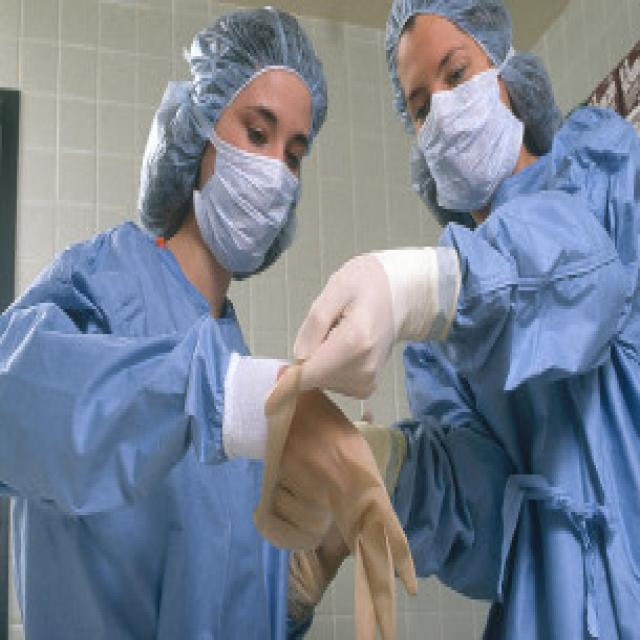mask: (195, 69, 313, 281), (399, 19, 512, 212)
